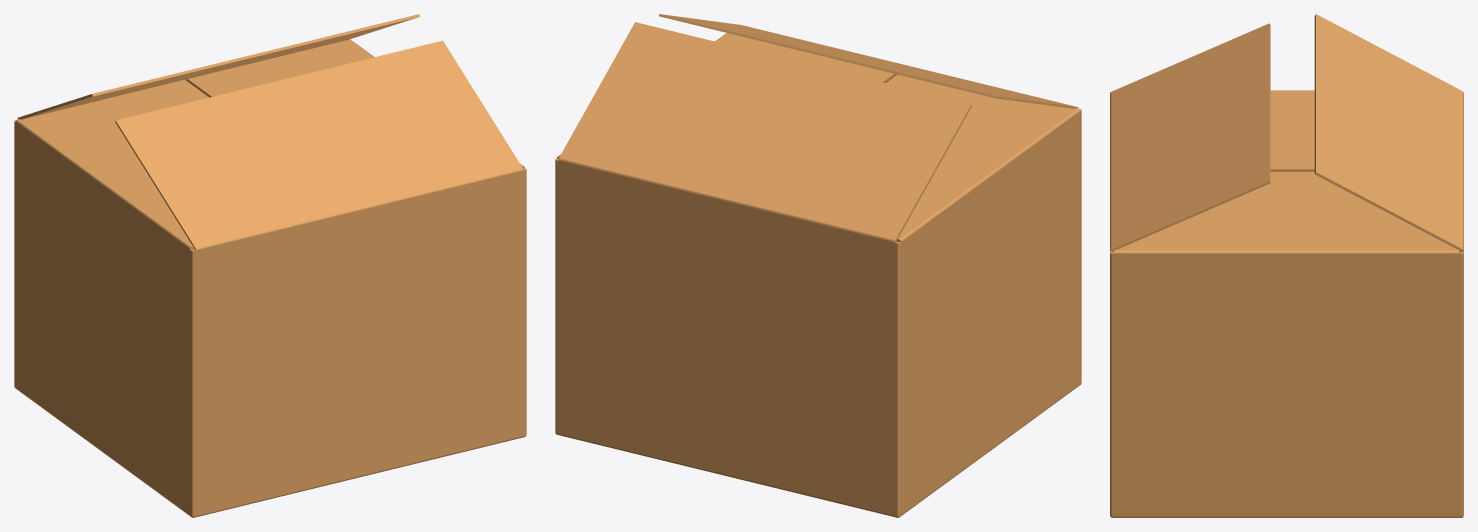
File: legBox.fbx
The picture shows the model from 3 angles, left to right: view 1: azimuth 30°, elevation 25°; view 2: azimuth 150°, elevation 25°; view 3: azimuth 270°, elevation 25°; orthographic projection. The views are drawn at different scales.
Parts seen in each view (by area): view 1: legBox; view 2: legBox; view 3: legBox.
Boxes of the visible parts, x1,y1,x2,y2 form: legBox: (14,14,526,517); legBox: (555,14,1081,517); legBox: (1110,14,1463,517).
Size of the model in its own units: 52 by 51.61 by 48.
